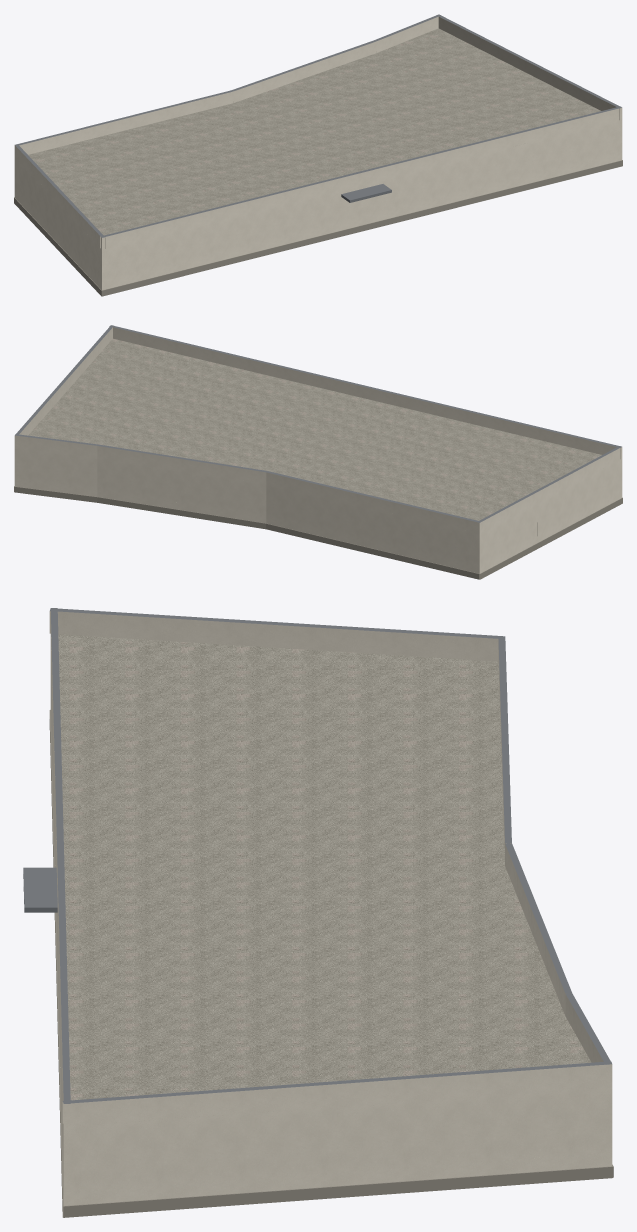
3 views of the same model, one above another, from view 1: azimuth 30°, elevation 25°; view 2: azimuth 150°, elevation 25°; view 3: azimuth 270°, elevation 25° (orthographic). The views are drawn at different scales.
Parts seen in each view (by area): view 1: B-w257431096_cubierta, B-w257431096_lejos, B-w257431096_muros, B-w257431096_molduras, B-w257431096_remates; view 2: B-w257431096_cubierta, B-w257431096_muros, B-w257431096_lejos, B-w257431096_molduras; view 3: B-w257431096_cubierta, B-w257431096_muros, B-w257431096_lejos, B-w257431096_molduras, B-w257431096_remates.
Boxes of the visible parts, bbox=[...] form: B-w257431096_cubierta: bbox=[15, 14, 621, 248]; B-w257431096_lejos: bbox=[14, 119, 622, 290]; B-w257431096_muros: bbox=[14, 41, 622, 295]; B-w257431096_molduras: bbox=[14, 160, 622, 296]; B-w257431096_remates: bbox=[341, 184, 391, 202]; B-w257431096_cubierta: bbox=[15, 325, 621, 522]; B-w257431096_muros: bbox=[14, 435, 622, 579]; B-w257431096_lejos: bbox=[50, 452, 608, 573]; B-w257431096_molduras: bbox=[14, 486, 622, 579]; B-w257431096_cubierta: bbox=[49, 608, 611, 1123]; B-w257431096_muros: bbox=[50, 613, 612, 1185]; B-w257431096_lejos: bbox=[50, 636, 612, 1205]; B-w257431096_molduras: bbox=[49, 710, 613, 1217]; B-w257431096_remates: bbox=[23, 867, 57, 912].
Bounding box in the file's own units: 42.26 × 4.5 × 21.22.
Materials: 5 (2 with a texture image).
